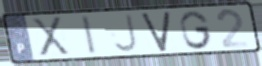2: (215, 7, 252, 49)
G: (178, 9, 214, 51)
I: (79, 14, 99, 56)
J: (112, 12, 140, 54)
V: (140, 10, 172, 54)
X: (29, 15, 72, 59)
